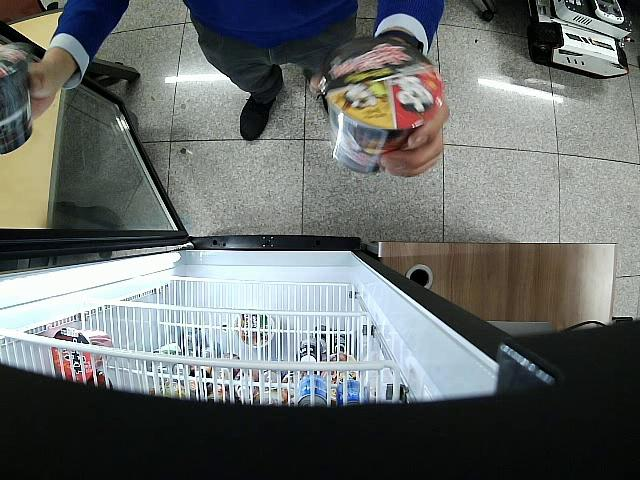00_hand: (309, 74, 449, 178), (29, 62, 72, 118)
08_buldak_S: (324, 36, 444, 173), (1, 42, 33, 154)
